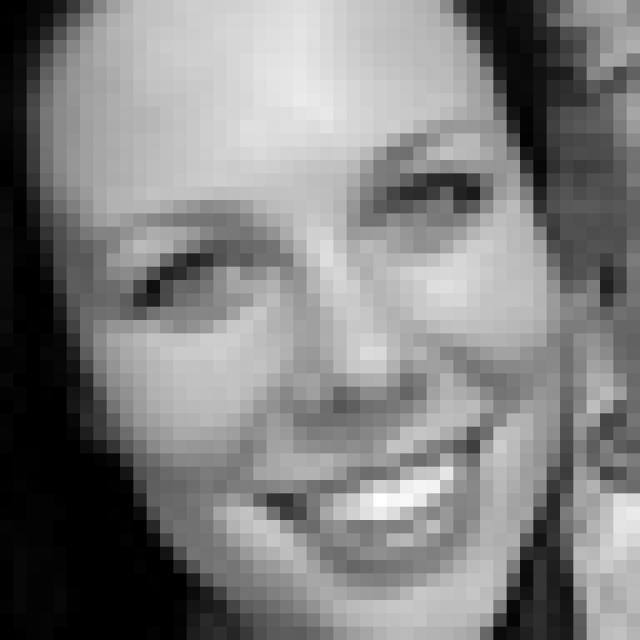happy: (94, 109, 521, 597)
